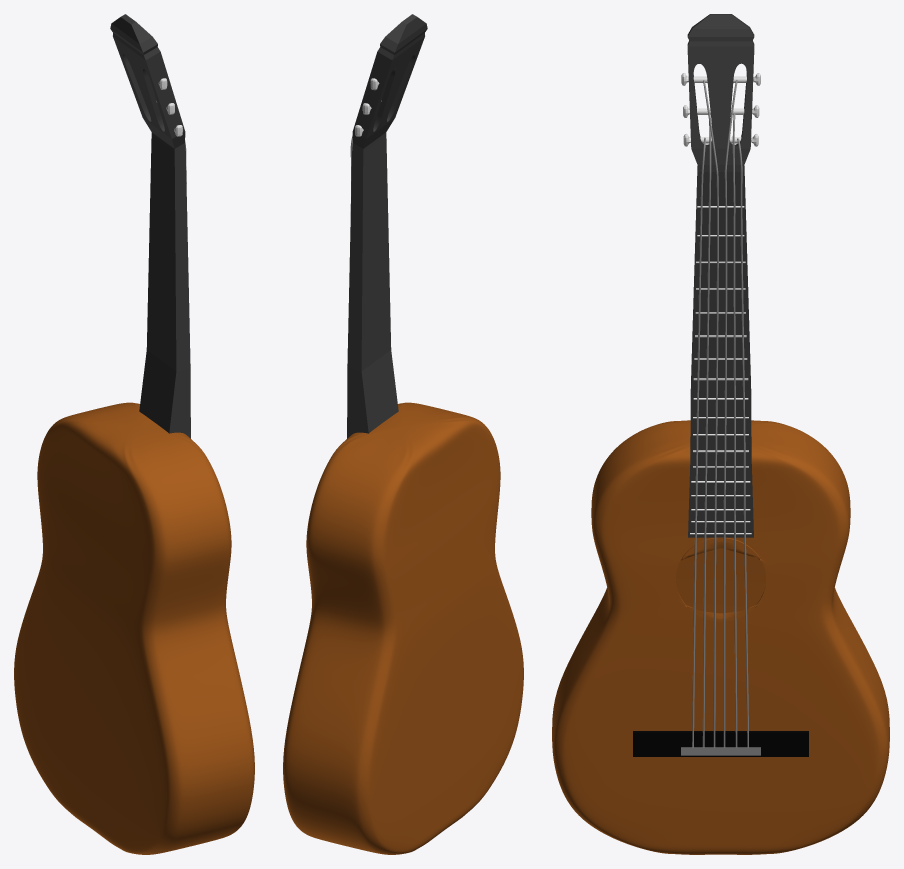
Rendered from Guitar.fbx.
The picture shows the model from 3 angles, left to right: view 1: azimuth 30°, elevation 25°; view 2: azimuth 150°, elevation 25°; view 3: azimuth 270°, elevation 25°; orthographic projection.
Visible parts, largest first — view 1: Cube, Cube.001; view 2: Cube, Cube.001; view 3: Cube, Cube.001, Cube.002, BézierCurve.003, BézierCurve.002, BézierCurve.001, BézierCurve.004, BézierCurve.005, BézierCurve, Cube.003.
Boxes of the visible parts, bbox=[...] form: Cube: bbox=[14, 402, 254, 854]; Cube.001: bbox=[110, 14, 190, 438]; Cube: bbox=[283, 402, 523, 854]; Cube.001: bbox=[347, 14, 427, 438]; Cube: bbox=[552, 420, 889, 854]; Cube.001: bbox=[687, 14, 754, 537]; Cube.002: bbox=[633, 731, 808, 756]; BézierCurve.003: bbox=[723, 80, 737, 747]; BézierCurve.002: bbox=[703, 80, 718, 747]; BézierCurve.001: bbox=[702, 113, 711, 747]; BézierCurve.004: bbox=[732, 113, 737, 747]; BézierCurve.005: bbox=[737, 138, 748, 747]; BézierCurve: bbox=[692, 137, 705, 747]; Cube.003: bbox=[681, 747, 760, 755].
Size of the model in its own units: 55.89 by 462 by 172.
